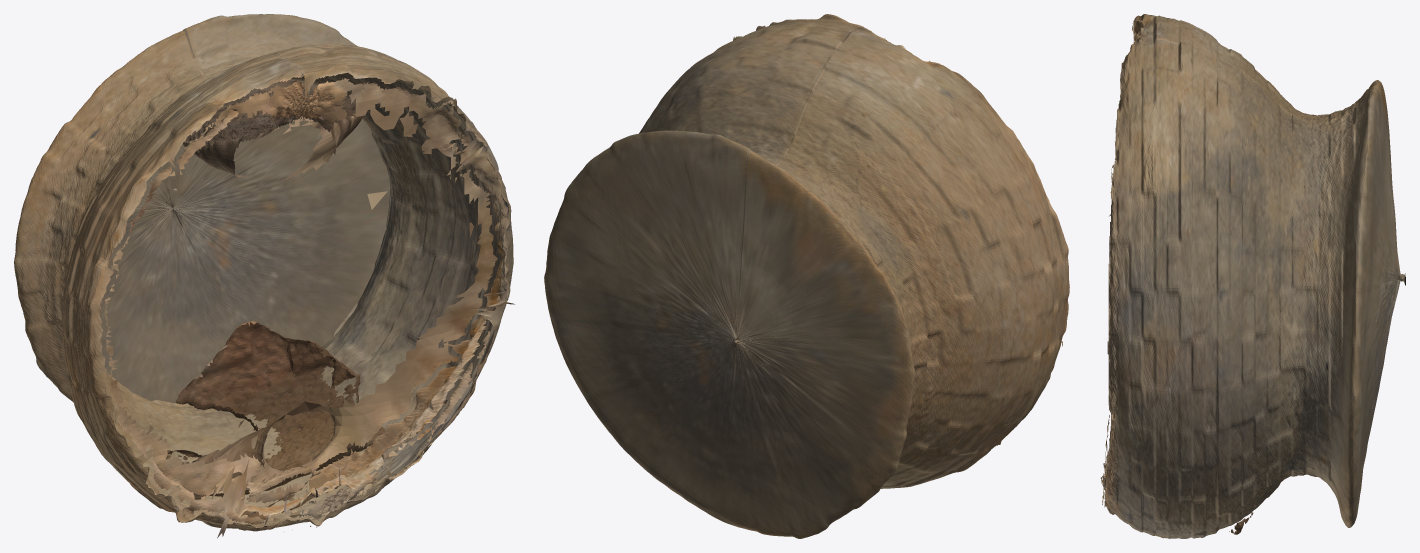
Rendered from mesh_inpaint.glb.
The picture shows the model from 3 angles, left to right: view 1: azimuth 30°, elevation 25°; view 2: azimuth 150°, elevation 25°; view 3: azimuth 270°, elevation 25°; orthographic projection. The views are drawn at different scales.
Parts seen in each view (by area): view 1: ipn, fill; view 2: ipn; view 3: ipn, fill.
Part boxes in pixels (<box>): ipn: <box>14,14,514,538</box>; fill: <box>104,78,501,530</box>; ipn: <box>544,14,1069,538</box>; ipn: <box>1104,14,1405,538</box>; fill: <box>1100,25,1390,534</box>.
Size of the model in its own units: 1.96 by 1.96 by 1.16.
Materials: 2 (1 with a texture image).
